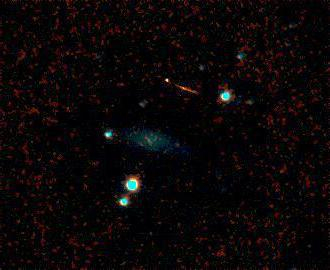star: (167, 127, 197, 157)
